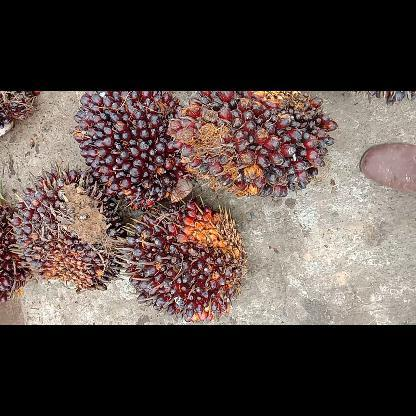Kurang masak: (166, 90, 340, 202), (113, 201, 249, 323), (10, 166, 130, 294), (70, 91, 190, 213)
